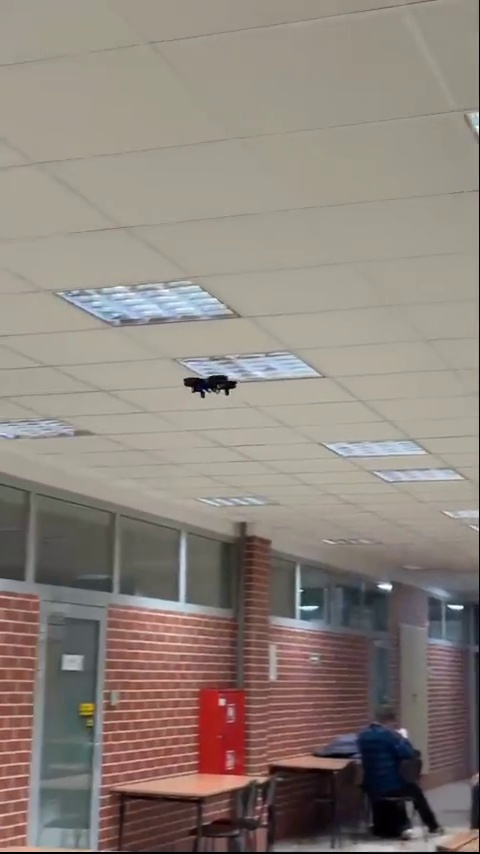drone: (183, 372, 239, 399)
no vest: (356, 705, 432, 809)
